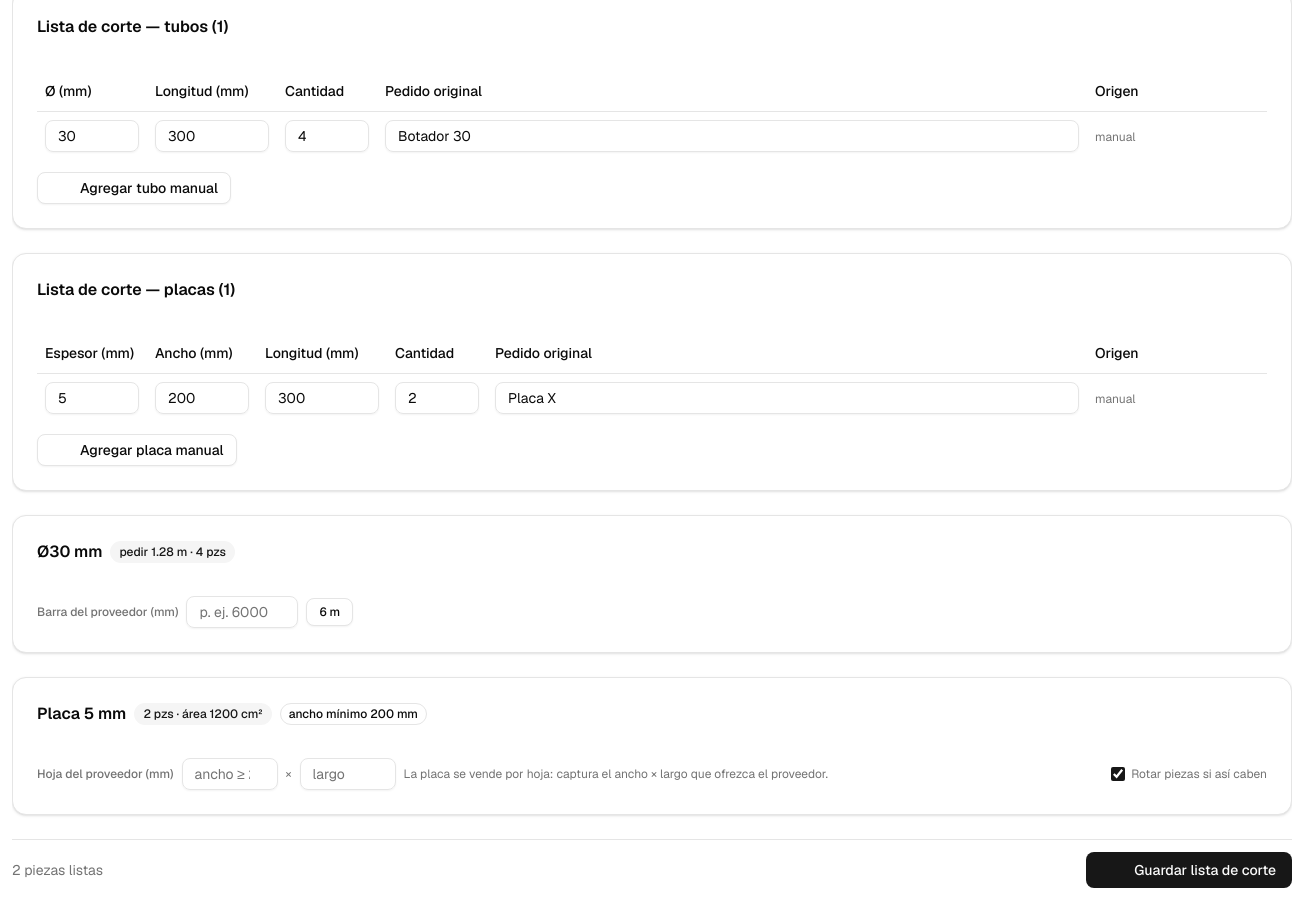
CutPlanner › la hoja pagina: si el largo no alcanza para dos filas, abre Hoja 2
(page scrolled)
Type "220" into the number field named "Ancho de la hoja del proveedor" at (230, 774), box [182, 758, 278, 790]
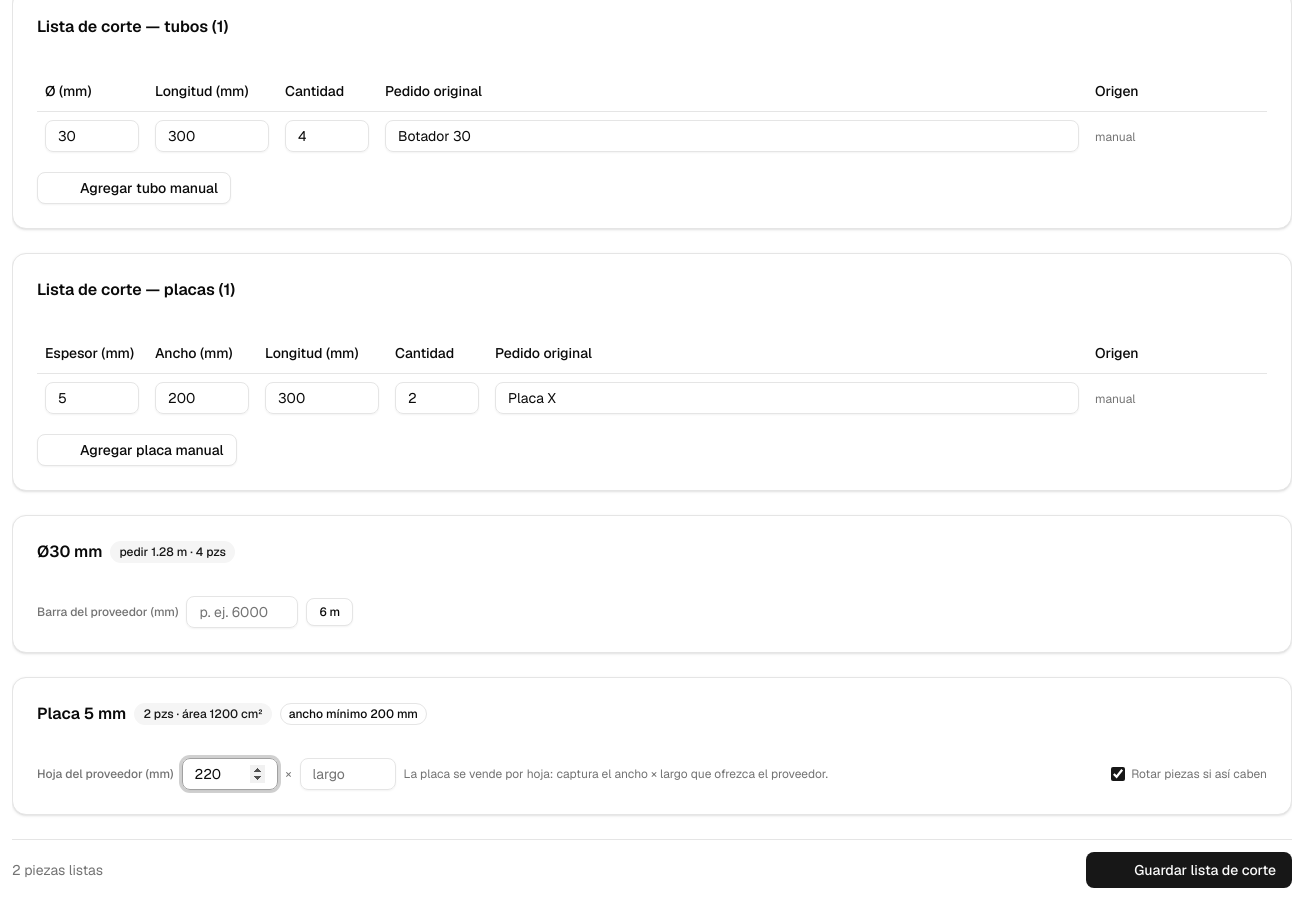
Type "350" into the number field named "Largo de la hoja del proveedor" at (348, 774), box [300, 758, 396, 790]
(page scrolled)
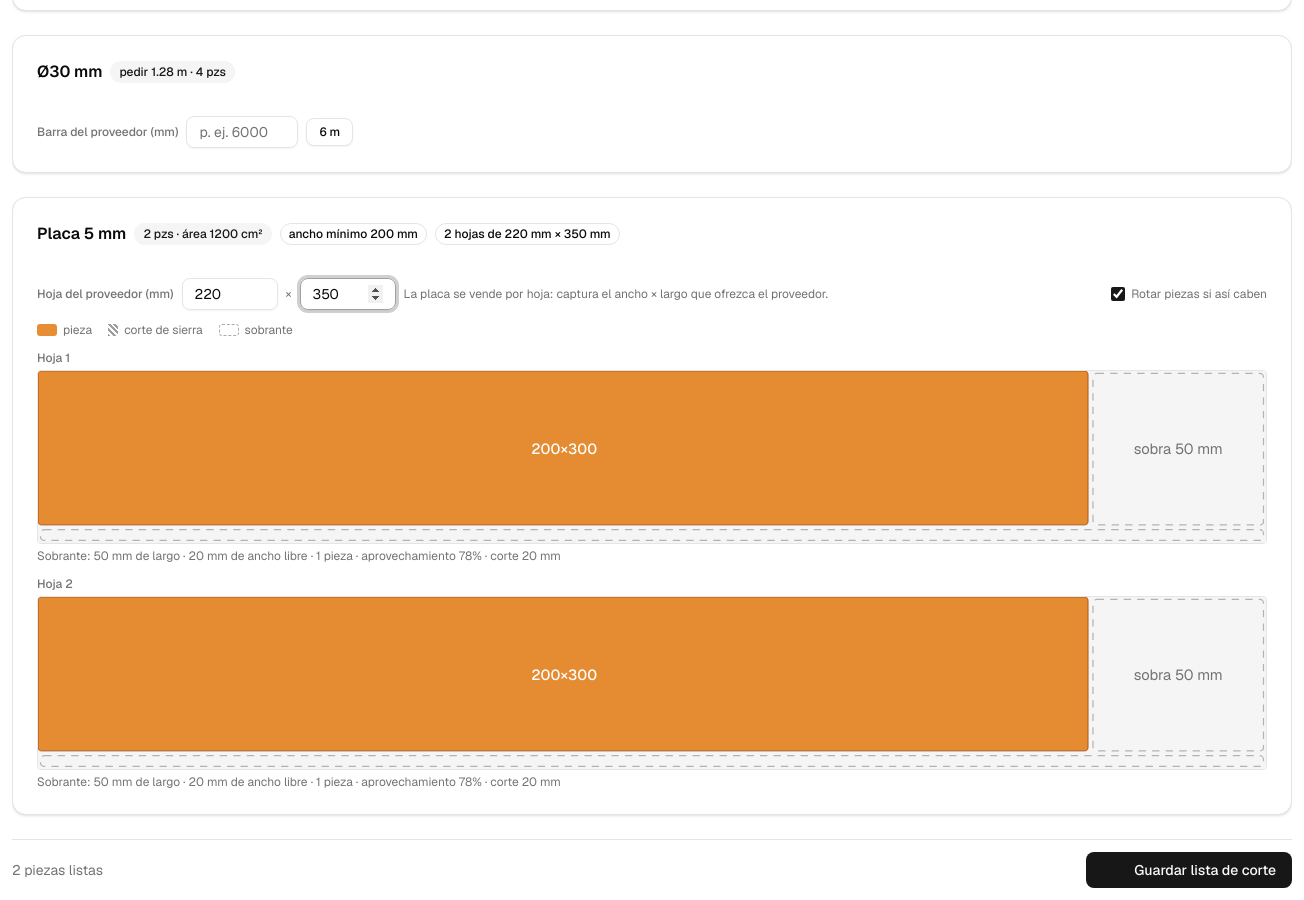
Check: the text "Hoja 1" is shown, box [37, 350, 70, 366]
Check: the text "Hoja 2" is shown, box [37, 576, 73, 592]
